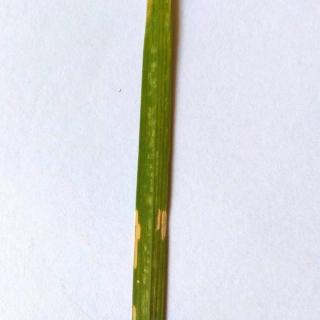Blast: (156, 203, 172, 241)
